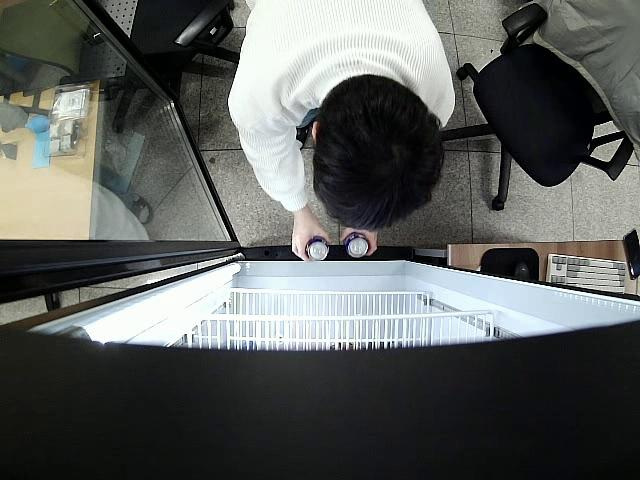00_hand: (290, 219, 329, 265), (339, 226, 379, 259)
14_welchsGrape: (301, 237, 331, 263), (341, 234, 369, 259)
